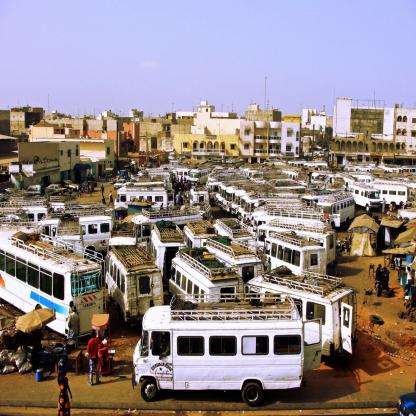Bus: (0, 158, 416, 408)
